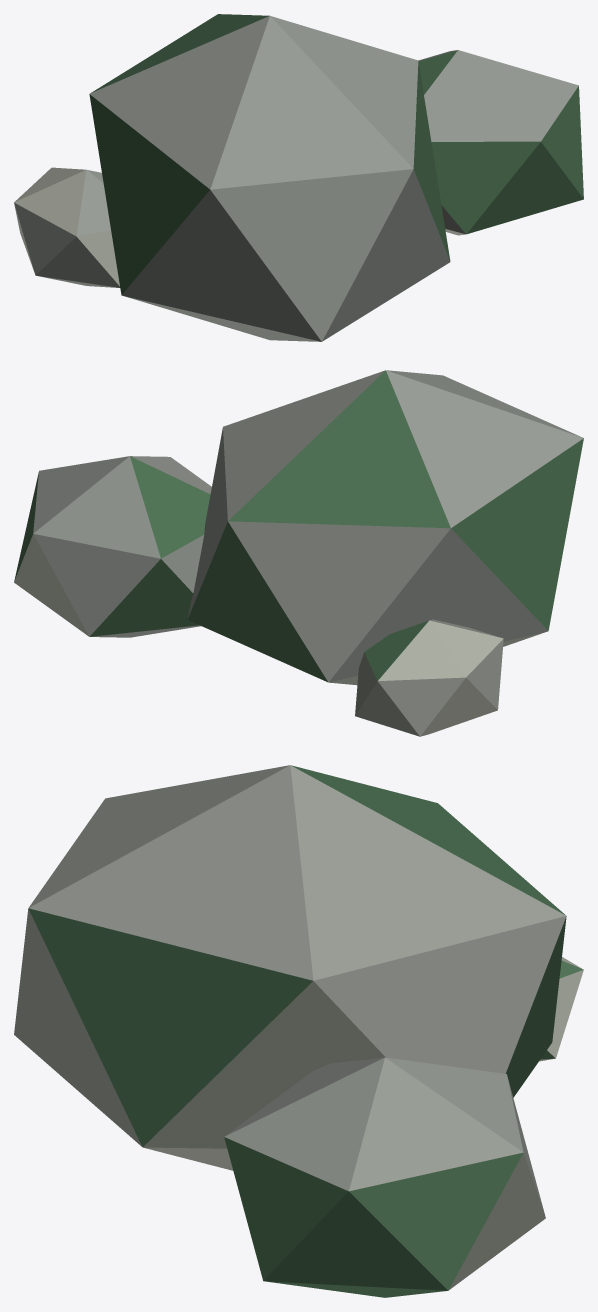
The model's file is boulder_cluster.fbx.
3 renders of one model, top to bottom at view 1: azimuth 30°, elevation 25°; view 2: azimuth 150°, elevation 25°; view 3: azimuth 270°, elevation 25°, orthographic. The views are drawn at different scales.
Visible parts, largest first — view 1: boulder_cluster; view 2: boulder_cluster; view 3: boulder_cluster.
Boxes of the visible parts, left/top/right/bottom form: boulder_cluster: left=14, top=14, right=583, bottom=341; boulder_cluster: left=14, top=370, right=583, bottom=736; boulder_cluster: left=14, top=765, right=583, bottom=1297.
Size of the model in its own units: 160 by 97.92 by 120.
